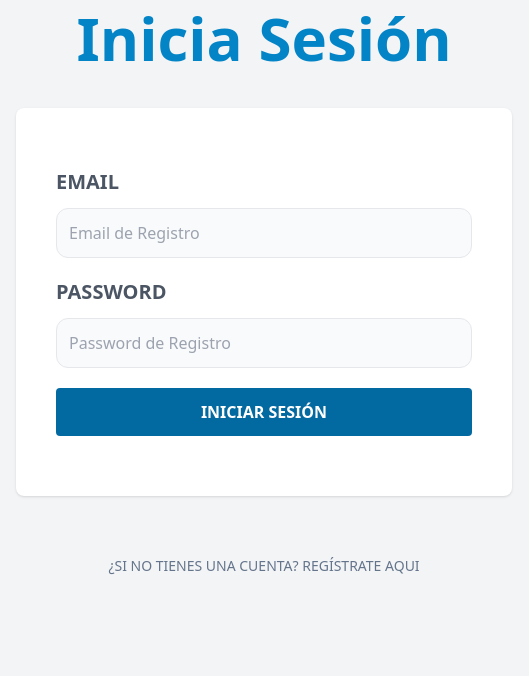
Test: <App /> Validacion del Formulario
This screenshot has width=529, height=676.
Step 1. Click the button with test id "btn-submit" → (264, 412), box [56, 388, 472, 436]
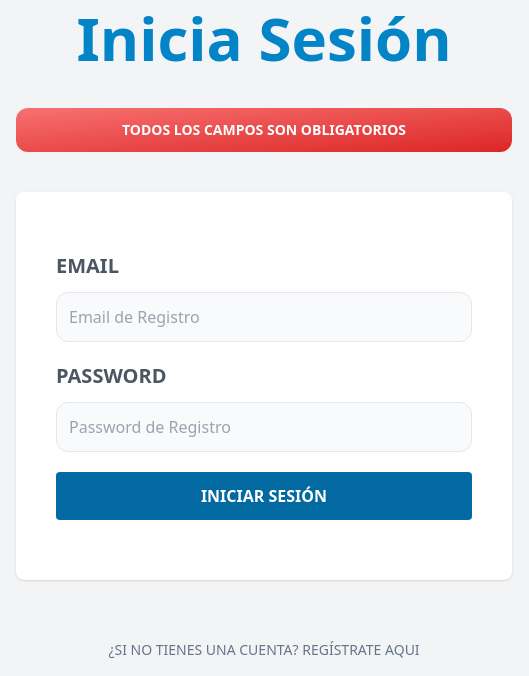
Check: the text with test id "alerta" reads "Todos los campos son obligatorios", box [122, 120, 406, 139]
